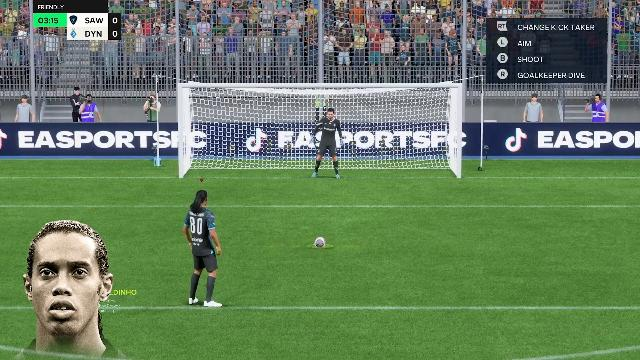circle: (307, 244, 335, 250)
football: (311, 239, 329, 248)
goal-bottom-left: (183, 139, 269, 178)
goal-bottom-right: (357, 139, 457, 178)
goal-middle-down: (272, 139, 356, 178)
goal-middle-up: (272, 88, 356, 138)
goal-top-left: (182, 88, 270, 138)
goal-top-right: (357, 88, 459, 138)
goalkeeper: (293, 107, 337, 179)
player: (181, 189, 225, 311)
